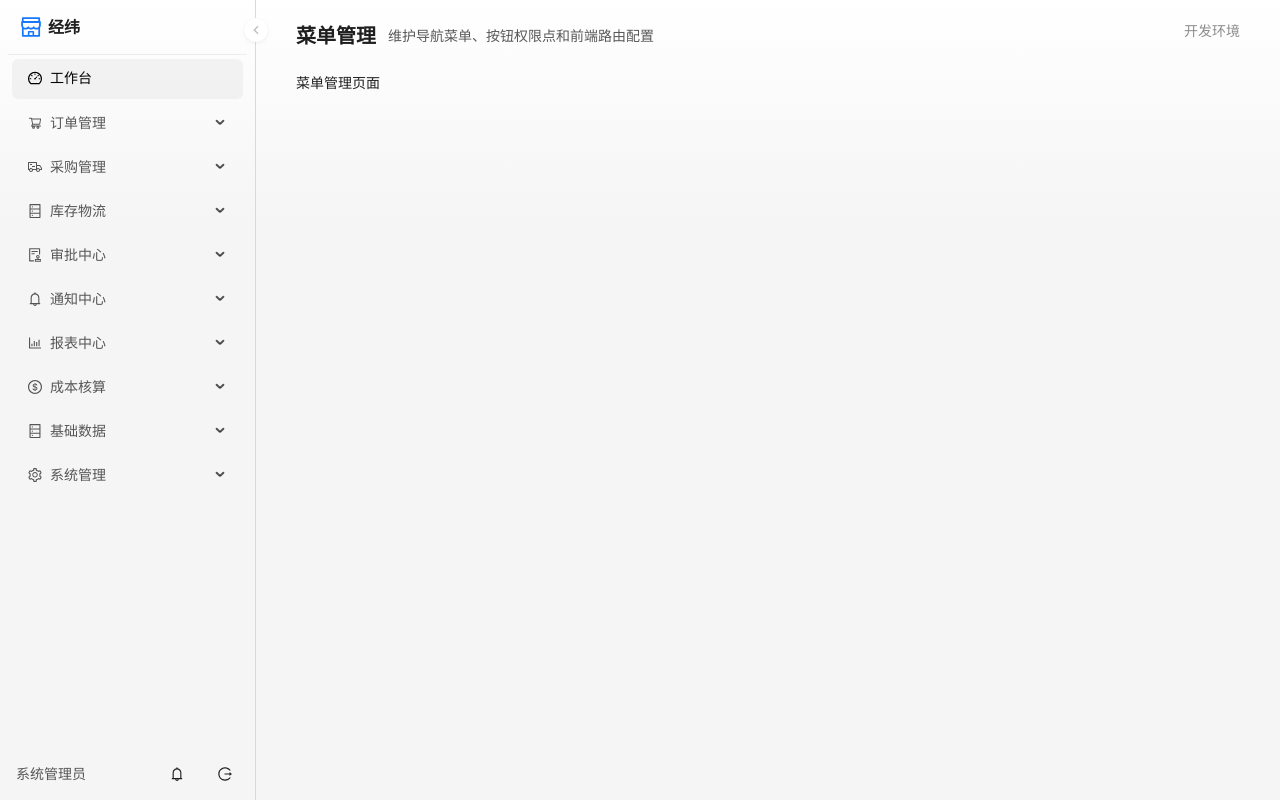
it: DashboardLayout › shows the system menu management item from fallback when backend menu tree is empty
This screenshot has width=1280, height=800.
Step 1. Click the menu item "系统管理" → [67, 474], box [28, 466, 106, 483]
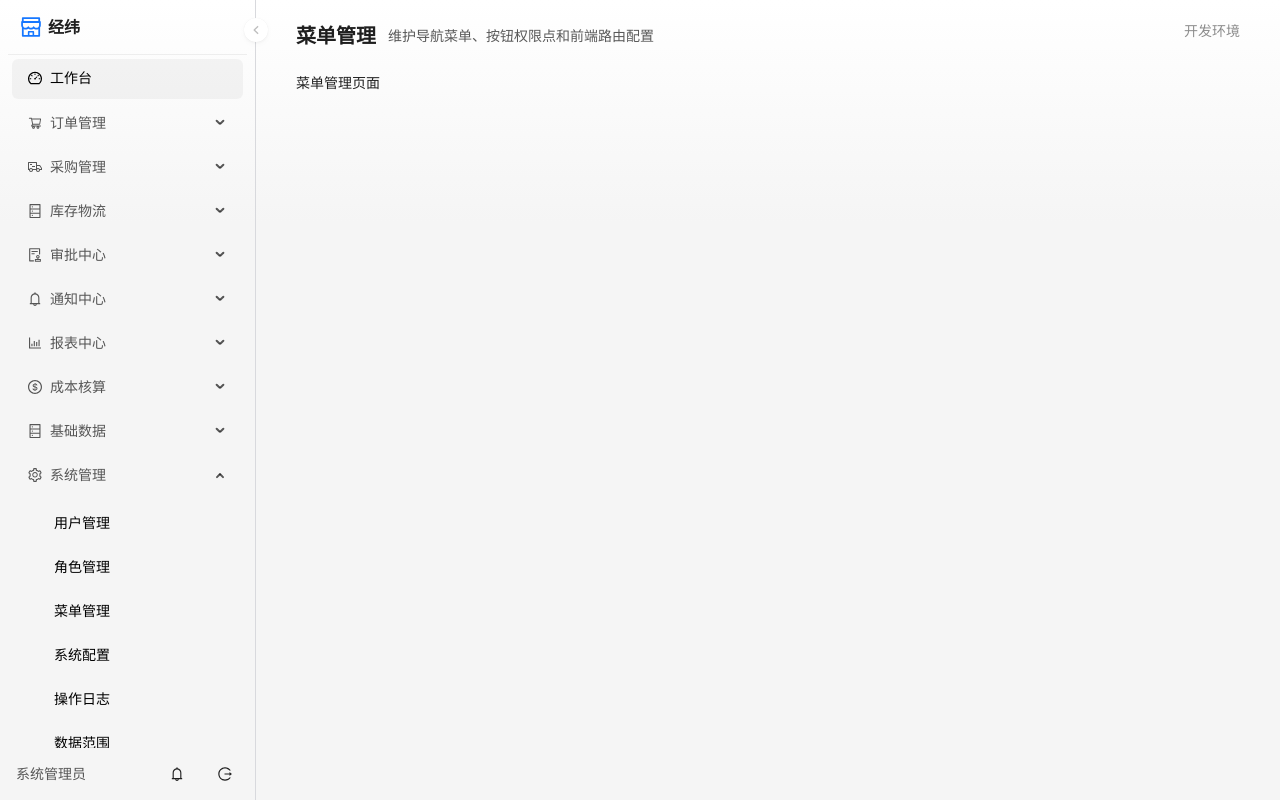
Expected: the text "菜单管理页面" is shown, [296, 74, 380, 91]
Result: the text "菜单管理" is shown 2 times at [54, 602, 110, 619]; [296, 20, 376, 52]
